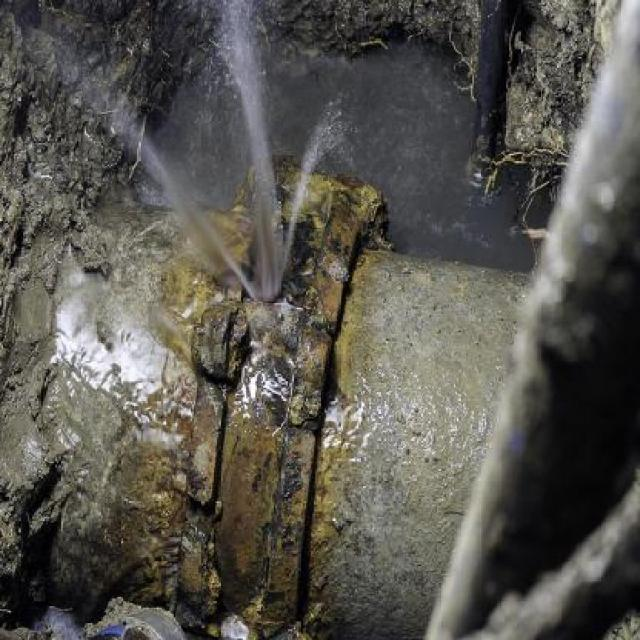leak: (62, 0, 339, 301)
